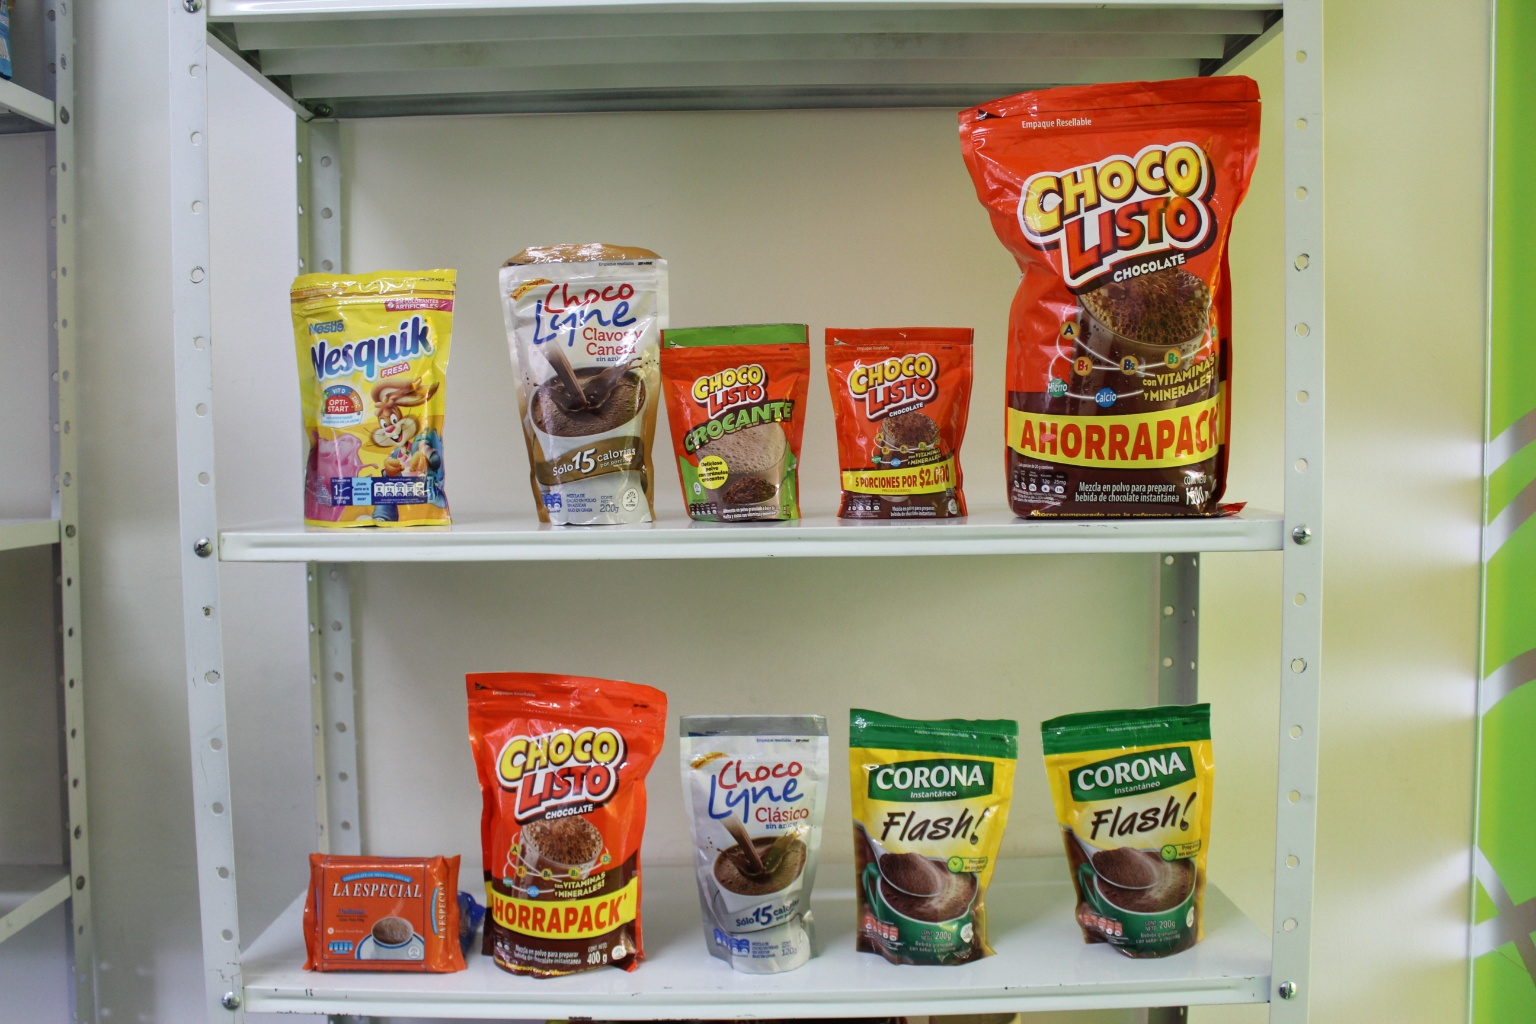COL0170102DYP10000: (654, 307, 806, 526)
COL0170103DYP1,500: (949, 49, 1269, 522)
COL0170103DYP10000: (811, 319, 981, 522)
COL0170103DYP40000: (469, 667, 667, 981)
COL0170305DYP20000: (283, 264, 481, 533)
